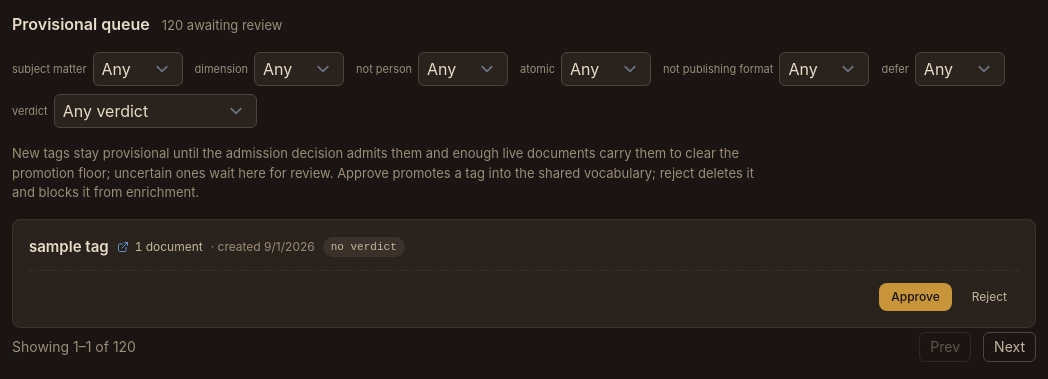
Test case: ProvisionalReview filters and paging › pages forward and back with the pager buttons
expect the text "sample tag" is shown: met, box [29,236,109,258]
expect the button "Prev" is disabled: met, box [919,332,971,362]
Step 1. Click the button "Next" → {"x": 1010, "y": 347}, box [983,332,1036,362]
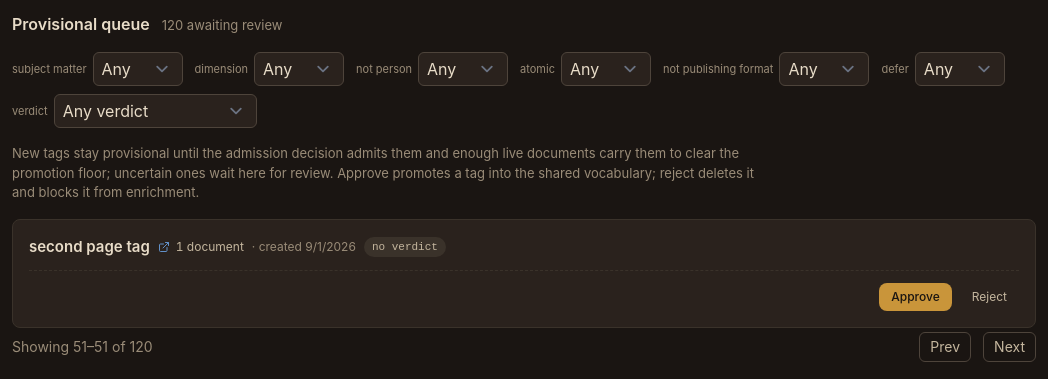
expect the text "second page tag" is shown: met, box [29,236,150,258]
expect the button "Prev" is enabled: met, box [919,332,971,362]
